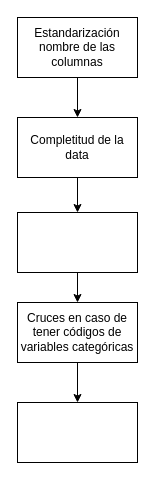
This 155x480 diagram has some shape labels left out. The shapes that lost their labels are listed below. From the top down, each one's box as (x1, y1, x2, y2) in pixels, then its label:
(16, 212, 138, 272): Cambio de formato de datos (Ej. Fechas)
(16, 402, 138, 462): Limpiezas personalizadas en caso de ser necesario
